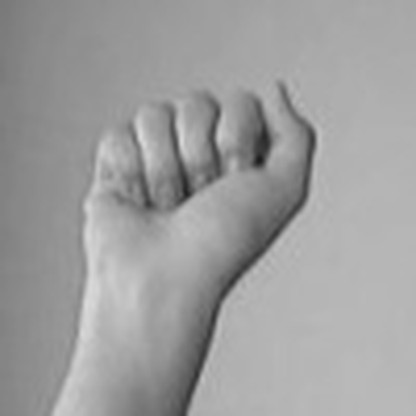a: (70, 50, 324, 323)
